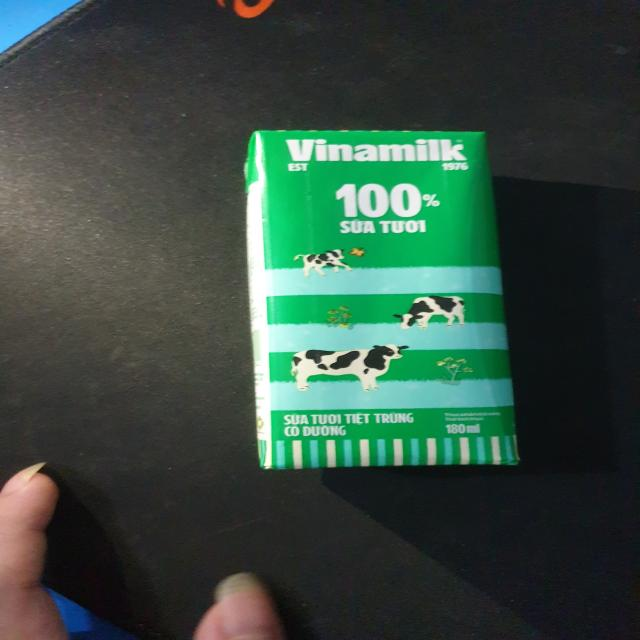Vina: (241, 128, 528, 476)
